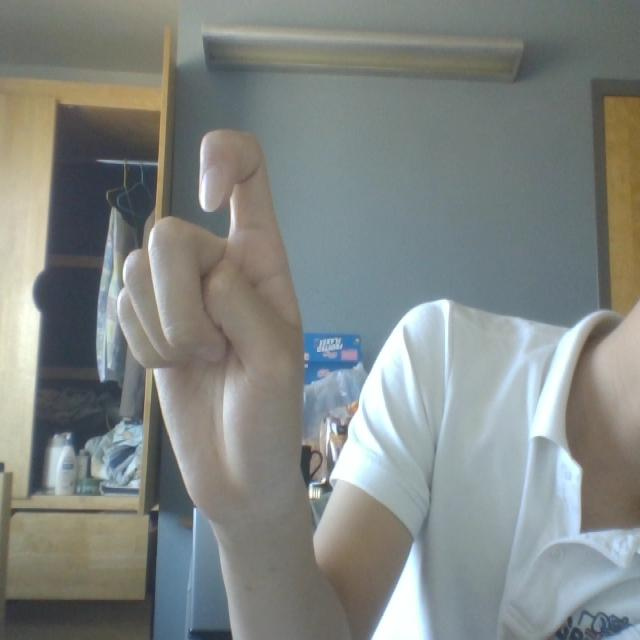X: (90, 92, 373, 574)
